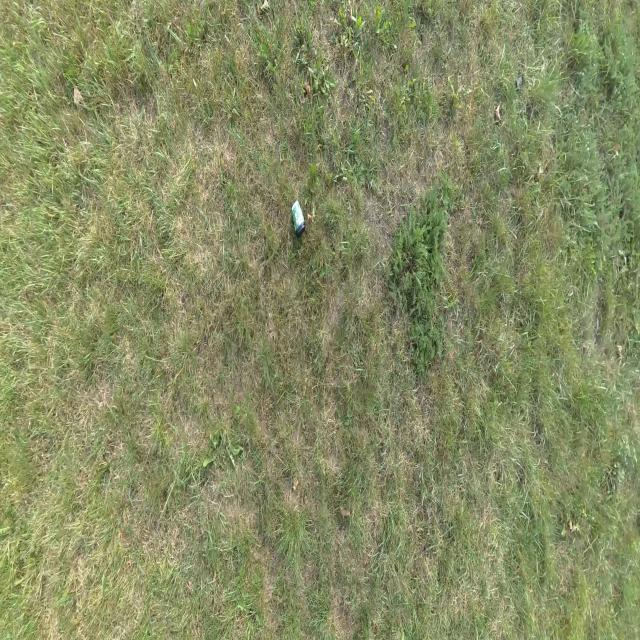rubbish: (290, 202, 305, 234)
